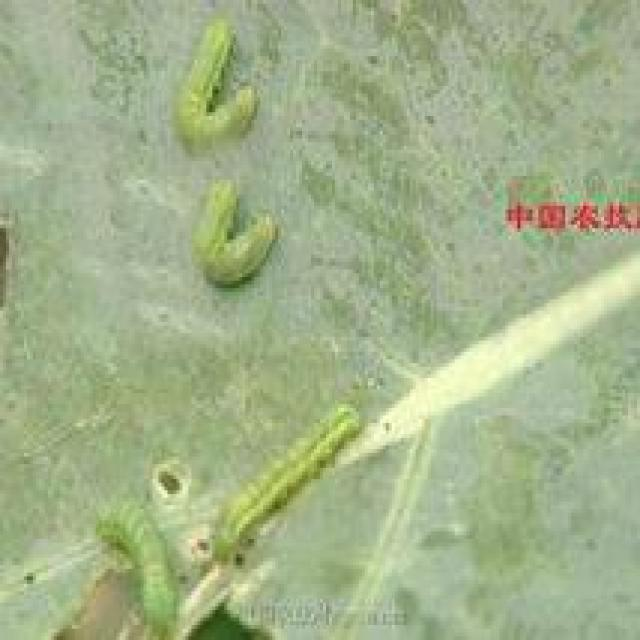BeetArmyWorm-Larva-: (214, 398, 371, 558), (169, 12, 270, 159), (94, 490, 190, 636), (189, 167, 287, 304)
